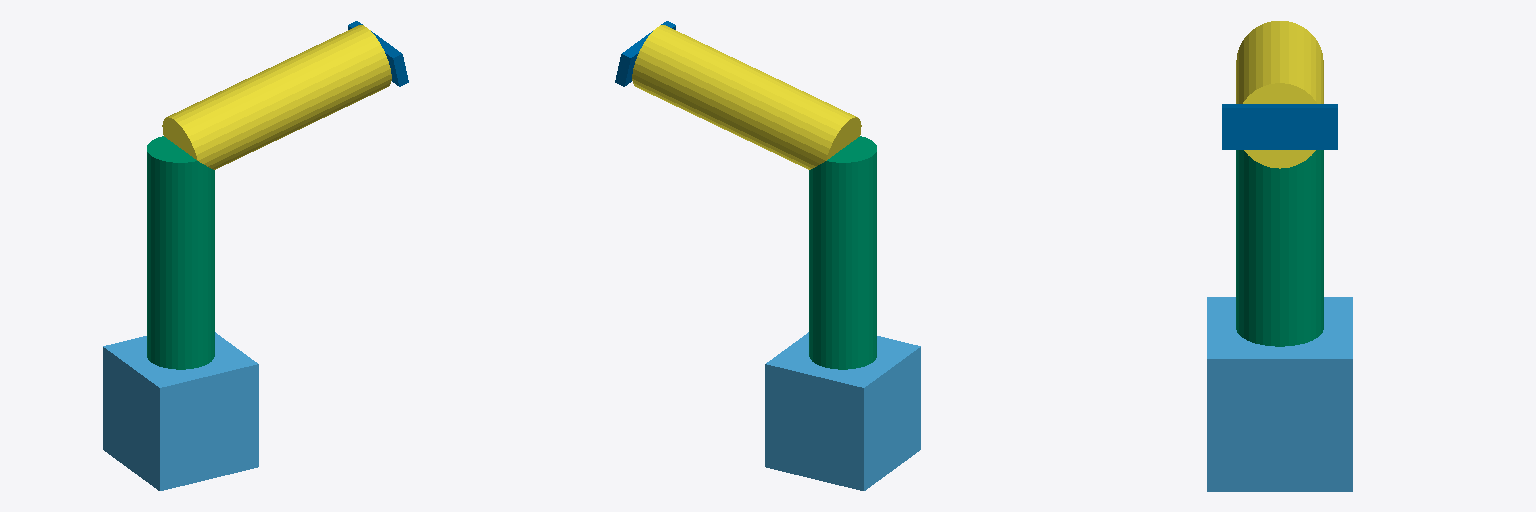
URDF robot description (robot):
<?xml version="1.0" encoding="UTF-8" ?>
<robot name="robot">
    <!-- World link -->
    <link name="world" />

    <!-- Base link -->
    <link name="base_link">
        <visual>
            <origin xyz="0 0 0.5" />
            <geometry>
                <box size="1 1 1" />
            </geometry>
        </visual>
        <collision>
            <origin xyz="0 0 5.5" />
            <geometry>
                <box size="1 1 1" />
            </geometry>
        </collision>
        
        <inertial>
            <mass value="10" />
            <inertia ixx="1" ixy="0" ixz="0" iyy="1" iyz="0" izz="1" />
        </inertial>

    </link>

    <!-- Fix in the world -->
    <joint name="base" type="fixed">
        <origin xyz="0 0 0" />
        <parent link="world" />
        <child link="base_link" />
    </joint>

    <!-- First link -->
    <link name="link_yaw">
        <visual>
            <origin xyz="0 0 1" />
            <geometry>
                <cylinder radius="0.3" length="2" />
            </geometry>
        </visual>
        <collision>
            <origin xyz="0 0 1" />
            <geometry>
                <cylinder radius="0.3" length="2" />
            </geometry>
        </collision>
        
        <inertial>
            <mass value="3" />
            <inertia ixx="0" ixy="0" ixz="0" iyy="0" iyz="0" izz="0" />
        </inertial>
    </link>

    <joint name="joint_yaw" type="revolute">
        <origin xyz="0 0 1" />
        <parent link="base_link" />
        <child link="link_yaw" />
        <axis xyz="0 0 1" />
        <limit lower="-3" upper="3" velocity="10" effort="1000" />
    </joint>

    <!-- Second link -->
    <link name="link_pitch">
        <visual>
            <origin xyz="0 0 1" />
            <geometry>
                <cylinder radius="0.3" length="2" />
            </geometry>
        </visual>
        <collision>
            <origin xyz="0 0 1" />
            <geometry>
                <cylinder radius="0.3" length="2" />
            </geometry>
        </collision>
        
        <inertial>
            <mass value="3" />
            <inertia ixx="0" ixy="0" ixz="0" iyy="0" iyz="0" izz="0" />
        </inertial>
    </link>

    <joint name="joint_pitch" type="revolute">
        <origin xyz="0 0 2" />
        <parent link="link_yaw" />
        <child link="link_pitch" />
        <axis xyz="0 1 0" />
        <limit lower="0.1" upper="2.6" velocity="1" effort="1000" />
    </joint>
    
    <!-- Third link -->
    <link name="link_rotate">
        <visual>
            <origin xyz="0 0 0.05" />
            <geometry>
                <box size="0.3 0.8 0.1" />
            </geometry>
        </visual>
        <collision>
            <origin xyz="0 0 0.05" />
            <geometry>
                <box size="0.3 0.8 0.1" />
            </geometry>
        </collision>

        <inertial>
            <mass value="0.1" />
            <inertia ixx="0" ixy="0" ixz="0" iyy="0" iyz="0" izz="0" />
        </inertial>
    </link>

    <joint name="joint_rotate" type="revolute">
        <origin xyz="0 0 2" />
        <parent link="link_pitch" />
        <child link="link_rotate" />
        <axis xyz="0 0 1" />
        <limit lower="0" upper="3.14" velocity="1" effort="1000" />
    </joint>


    <!-- Gazebo -->
    <transmission name="trans_joint_yaw">
        <type>transmission_interface/SimpleTransmission</type>
        <joint name="joint_yaw">
            <hardwareInterface>hardware_interface/PositionJointInterface</hardwareInterface>
        </joint>
        <actuator name="joint_yaw_motor">
            <hardwareInterface>hardware_interface/PositionJointInterface</hardwareInterface>
            <mechanicalReduction>1</mechanicalReduction>
        </actuator>
    </transmission>

    <transmission name="trans_joint_pitch">
        <type>transmission_interface/SimpleTransmission</type>
        <joint name="joint_pitch">
            <hardwareInterface>hardware_interface/PositionJointInterface</hardwareInterface>
        </joint>
        <actuator name="joint_pitch_motor">
            <hardwareInterface>hardware_interface/PositionJointInterface</hardwareInterface>
            <mechanicalReduction>1</mechanicalReduction>
        </actuator>
    </transmission>
    
    <transmission name="trans_joint_rotate">
        <type>transmission_interface/SimpleTransmission</type>
        <joint name="joint_rotate">
            <hardwareInterface>hardware_interface/PositionJointInterface</hardwareInterface>
        </joint>
        <actuator name="joint_rotate_motor">
            <hardwareInterface>hardware_interface/PositionJointInterface</hardwareInterface>
            <mechanicalReduction>1</mechanicalReduction>
        </actuator>
    </transmission>

    <gazebo>
        <plugin name="gazebo_ros_control" filename="libgazebo_ros_control.so">
            <robotNamespace>/robot</robotNamespace>
        </plugin>
    </gazebo>
</robot>

--- Facts derived from the render (not from the file) ---
The picture shows the robot from 3 angles, left to right: view 1: azimuth 30°, elevation 25°; view 2: azimuth 150°, elevation 25°; view 3: azimuth 270°, elevation 25°; orthographic projection.
Model robot with 5 links and 4 joints (3 revolute, 1 fixed), rooted at world, posed all joints at 0 but 1 set to mid-range because 0 is outside their limits (joint_pitch = 1.35).
Links seen in each view (by area): view 1: base_link, link_pitch, link_yaw, link_rotate; view 2: base_link, link_pitch, link_yaw, link_rotate; view 3: base_link, link_yaw, link_pitch, link_rotate.
Boxes of the visible links, x1,y1,x2,y2 form: base_link: [103, 332, 258, 490]; link_pitch: [162, 25, 391, 169]; link_yaw: [147, 136, 214, 369]; link_rotate: [348, 21, 408, 86]; base_link: [765, 332, 920, 490]; link_pitch: [632, 25, 861, 169]; link_yaw: [809, 136, 876, 369]; link_rotate: [615, 21, 675, 86]; base_link: [1207, 297, 1352, 491]; link_yaw: [1236, 150, 1323, 346]; link_pitch: [1236, 21, 1323, 168]; link_rotate: [1222, 104, 1337, 149].
Size in the robot's own frame: 2.58 by 1 by 3.73 metres.
Geometry: primitives only (box / cylinder / sphere), no mesh files.